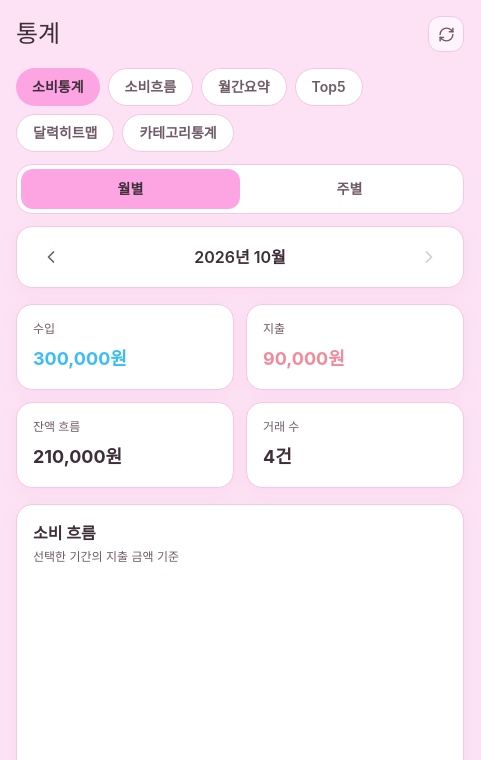
Scenario: StatisticsPage › switches to Top5 tab and shows ranked categories
This screenshot has width=481, height=760.
Click the button "Top5". click: click(329, 87)
box: 295,68 -> 363,106
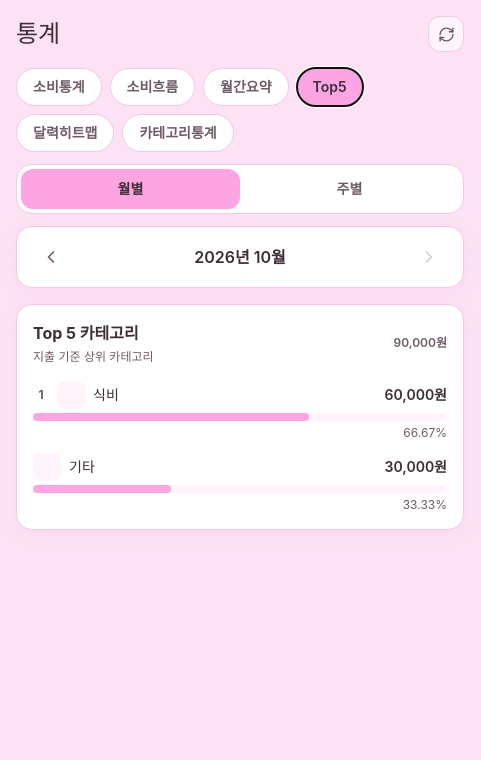
Result: the element labelled "Top 5 카테고리" is shown at 16,304 -> 464,530
